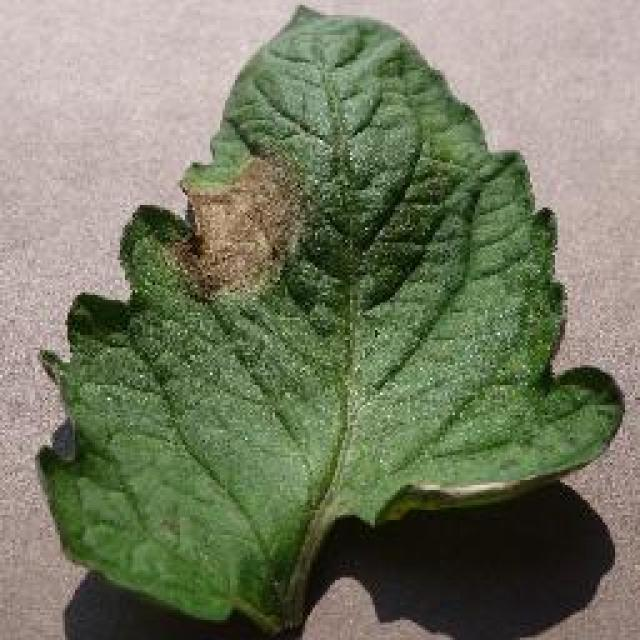Tomato Late Blight: (80, 68, 512, 380)
